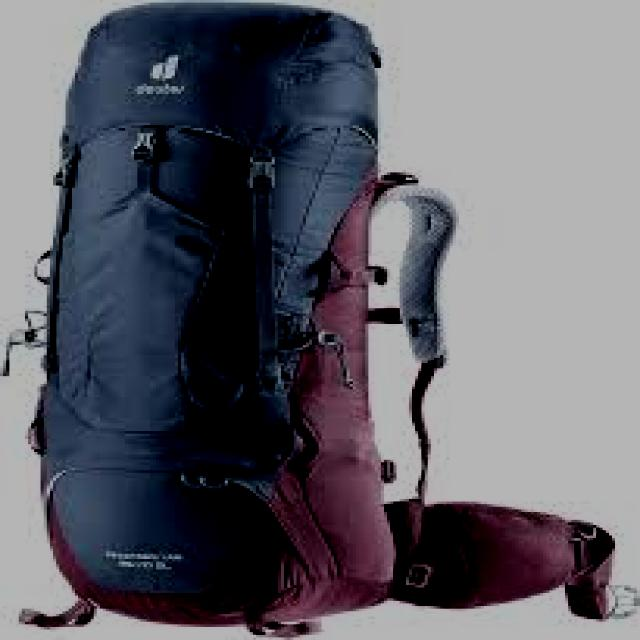backpack: (1, 1, 622, 636)
